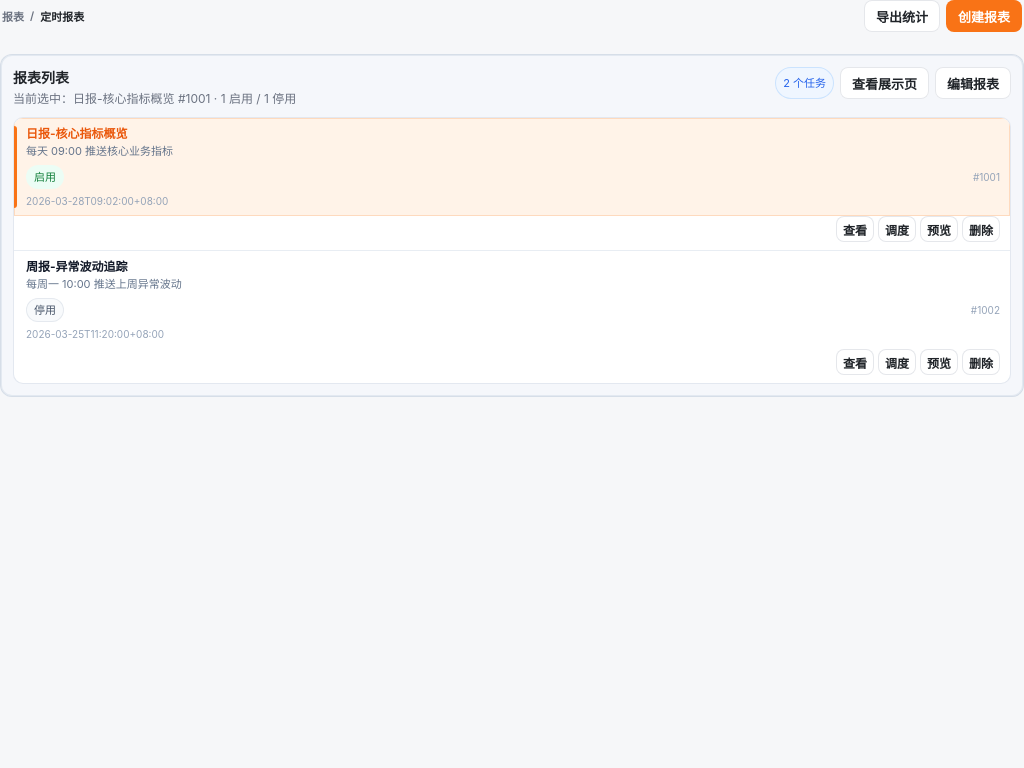
Scenario: report schedule page › keeps current workspace when save succeeds but refresh fails
expect the heading "报表列表" is shown: met, box [13,69,69,86]
Click the button with aria-label "编辑报表调度 日报-核心指标概览": x=897, y=229 [878,216,916,242]
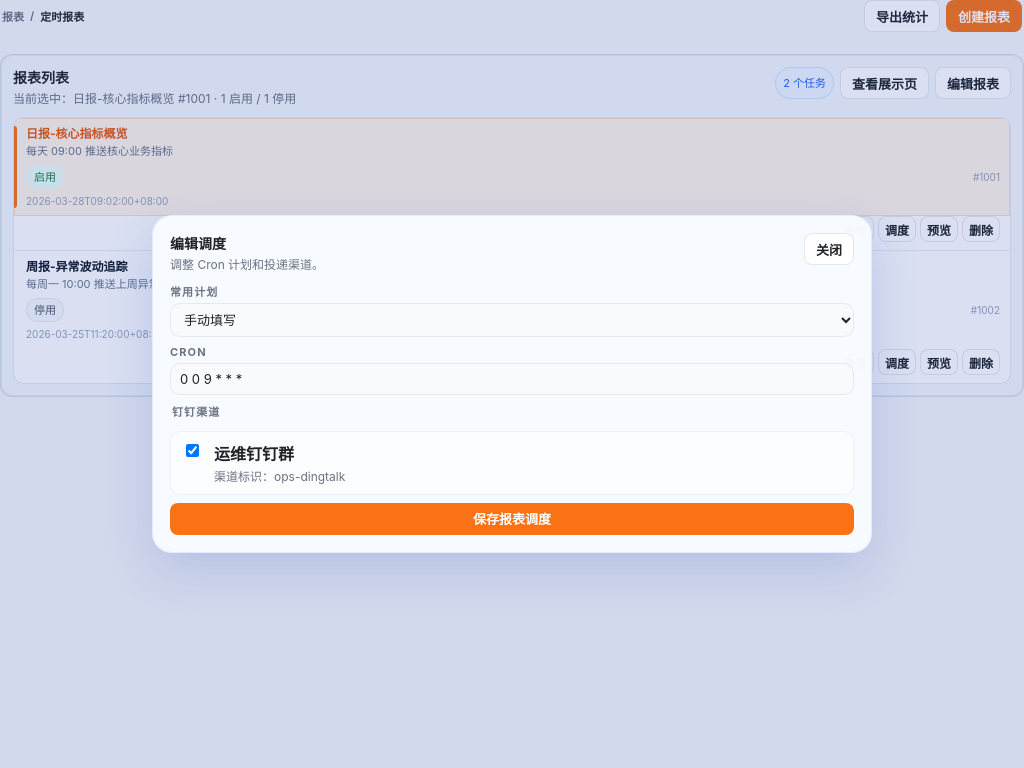
Replace the text in the field labelled "Cron" with "0 */2 * * * *": x=512, y=379 [170,363,854,395]
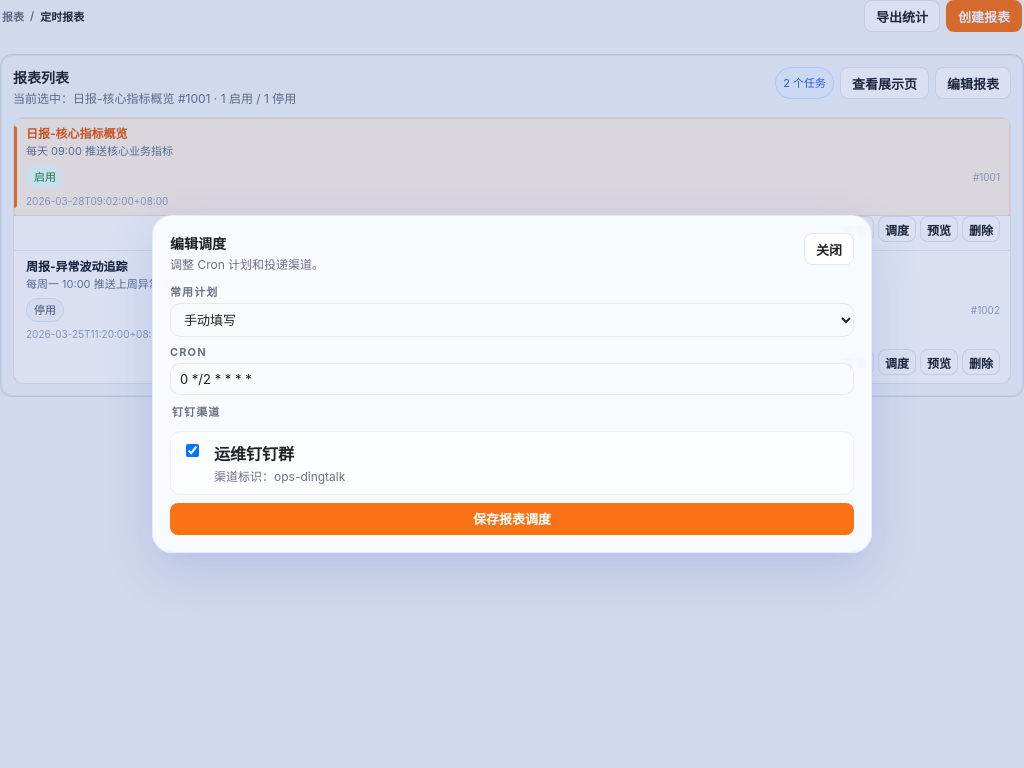
Click the button "保存报表调度": x=512, y=519 [170,503,854,535]
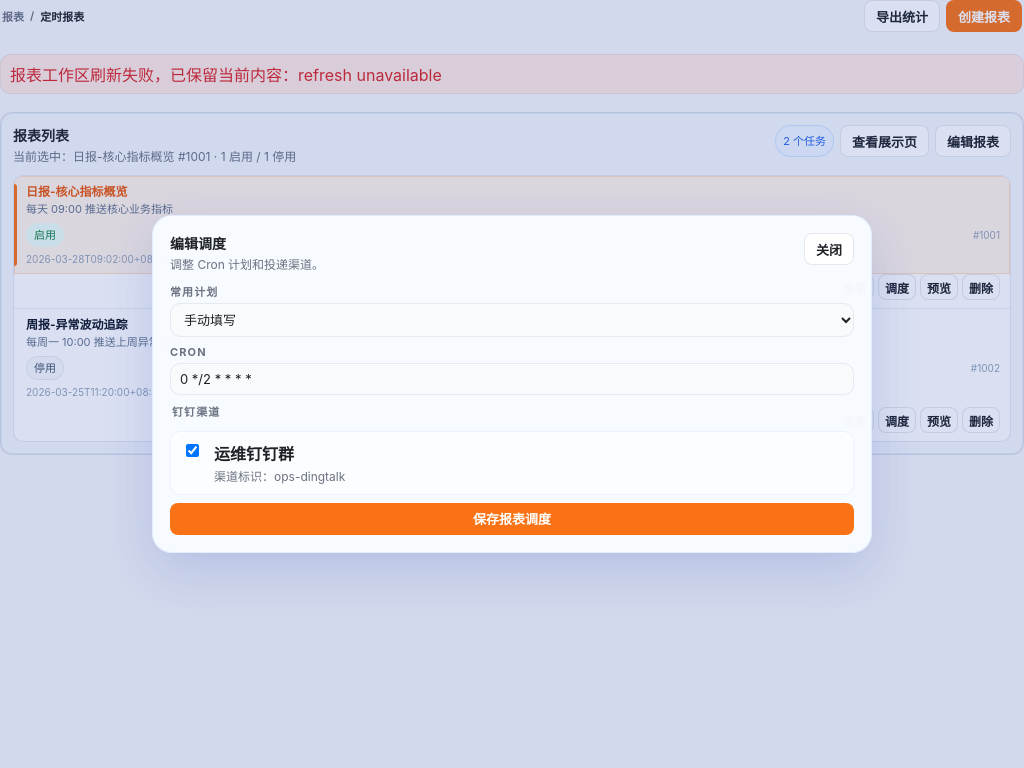
expect the message reads "报表工作区刷新失败，已保留当前内容：refresh unavailable": met, box [10,65,442,85]
